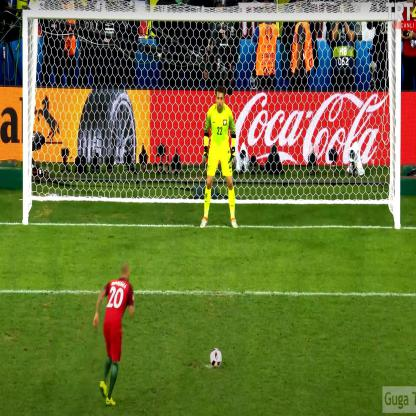penalty kick: (92, 1, 247, 411)
